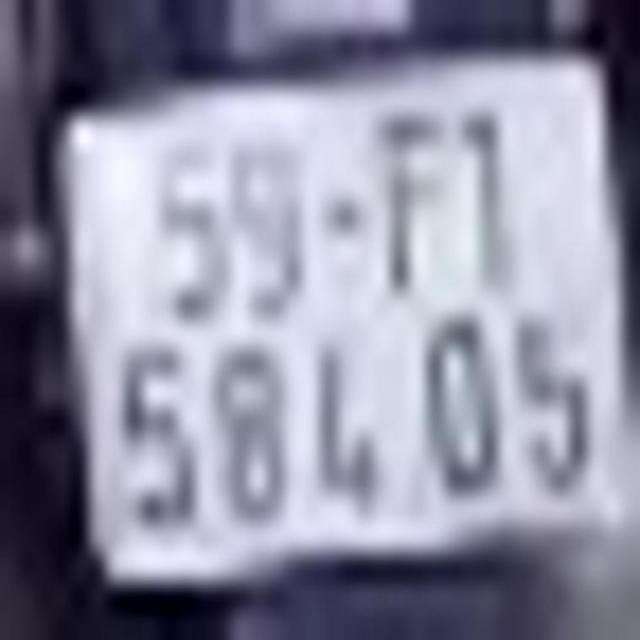0: (415, 305, 508, 506)
1: (455, 99, 516, 288)
4: (309, 339, 382, 519)
5: (513, 302, 599, 508), (117, 340, 200, 524), (148, 135, 228, 323)
8: (211, 340, 295, 526)
9: (232, 129, 308, 322)
F: (373, 102, 449, 294)
